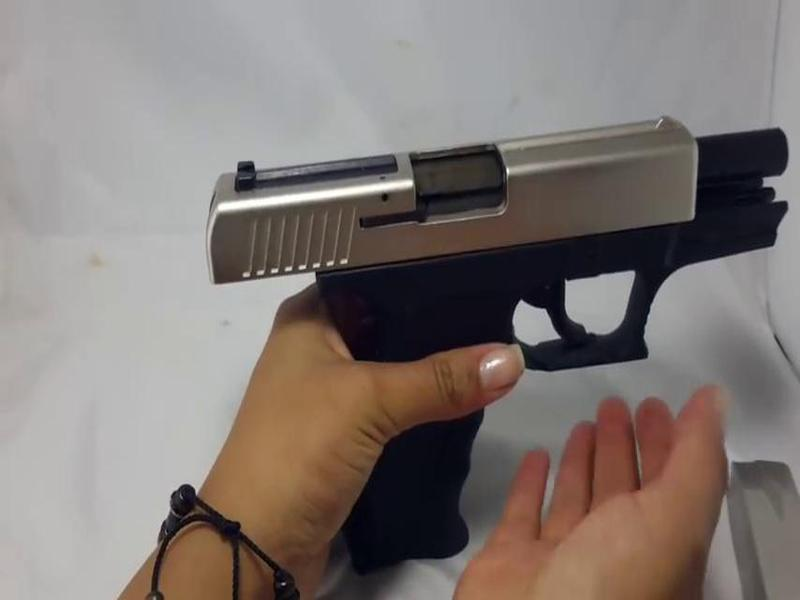Pistola: (190, 115, 793, 560)
